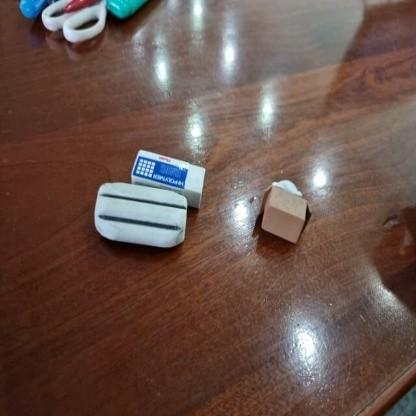not trash: (13, 0, 172, 46), (87, 180, 192, 249), (128, 147, 209, 201), (254, 180, 316, 241)
